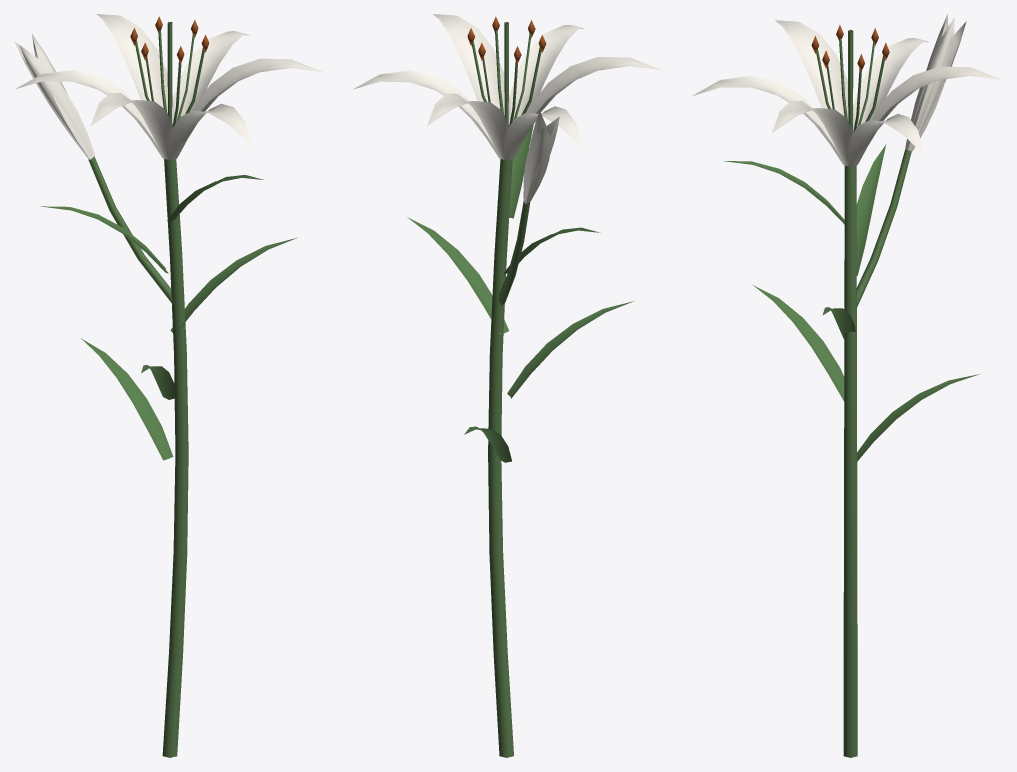
File: lily.glb
The picture shows the model from 3 angles, left to right: view 1: azimuth 30°, elevation 25°; view 2: azimuth 150°, elevation 25°; view 3: azimuth 270°, elevation 25°; orthographic projection.
Parts seen in each view (by area): view 1: lily; view 2: lily; view 3: lily.
Boxes of the visible parts, bbox=[...] form: lily: bbox=[14, 14, 322, 757]; lily: bbox=[353, 14, 661, 757]; lily: bbox=[692, 14, 1001, 757].
Size of the model in its own units: 0.1173 by 0.349 by 0.136.
